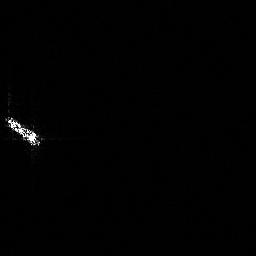ship: (1, 113, 45, 149)
